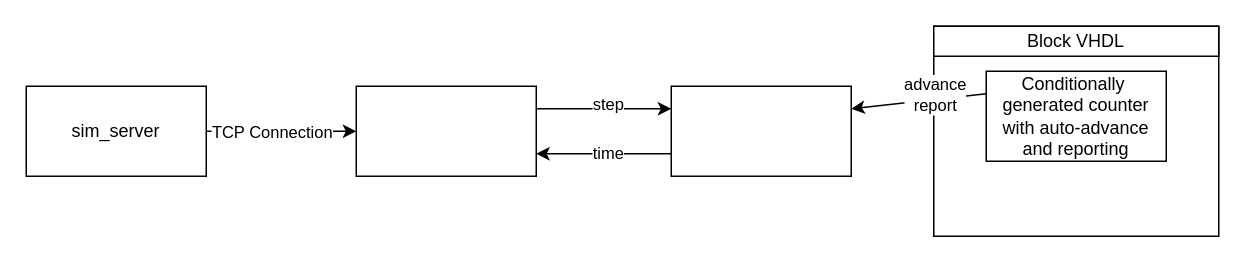
The diagram is 1245 pixels wide and 263 high, and some of its shapes have lost their labels. The centre of each missing label's shape, as x and y in pixels:
"Cocotb Block Simulation" belongs at point (760, 130).
"FPGA Simulation Runner" belongs at point (445, 130).
